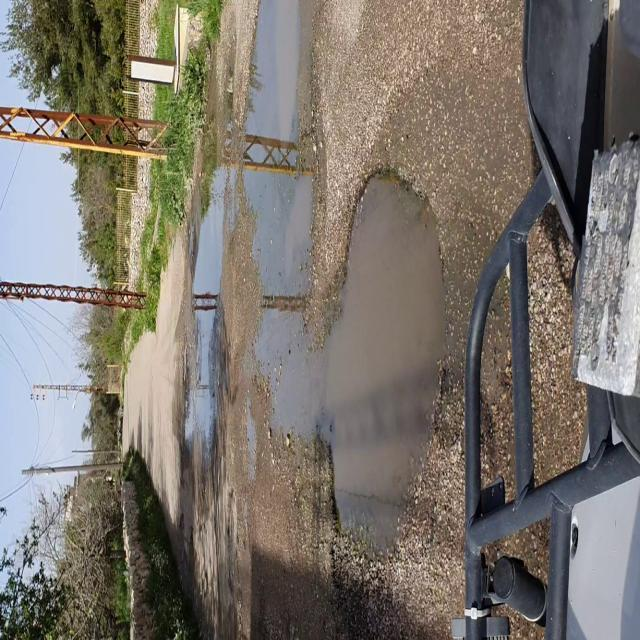pothole: (330, 165, 455, 556), (242, 1, 324, 261)
